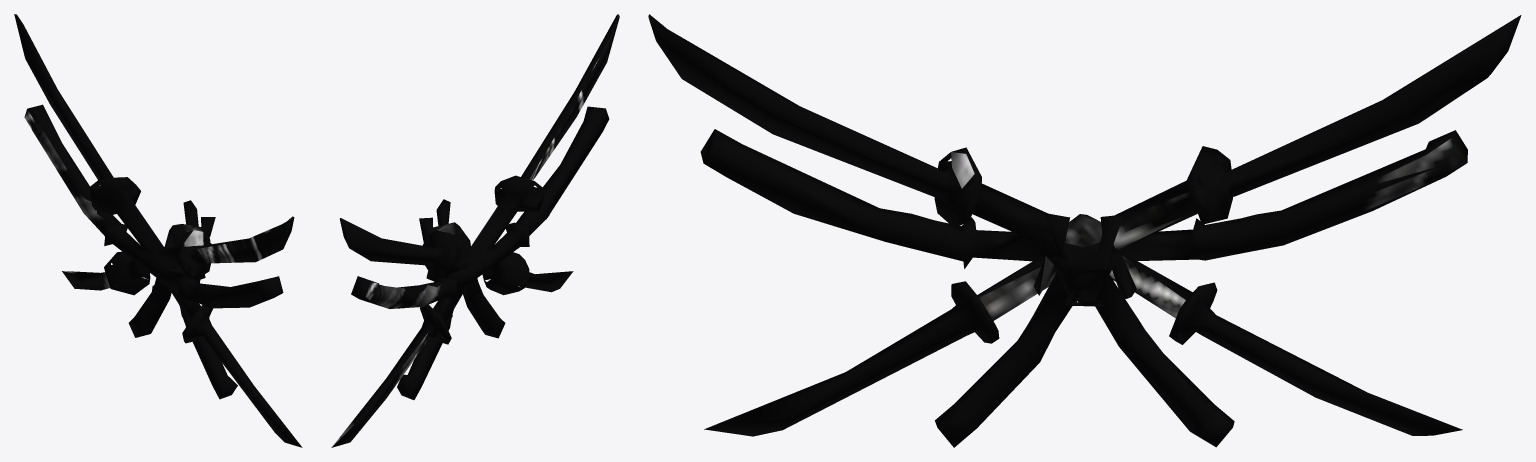
Rendered from Wings2.fbx.
3 renders of one model, left to right at view 1: azimuth 30°, elevation 25°; view 2: azimuth 150°, elevation 25°; view 3: azimuth 270°, elevation 25°, orthographic. The views are drawn at different scales.
Visible parts, largest first — view 1: tripo_node_9f37003d-00e4-46ad-b435-aad72360b564.008; view 2: tripo_node_9f37003d-00e4-46ad-b435-aad72360b564.008; view 3: tripo_node_9f37003d-00e4-46ad-b435-aad72360b564.008.
Part boxes in pixels (x1,y1,x2,y2): tripo_node_9f37003d-00e4-46ad-b435-aad72360b564.008: (14,14,302,447); tripo_node_9f37003d-00e4-46ad-b435-aad72360b564.008: (331,14,619,447); tripo_node_9f37003d-00e4-46ad-b435-aad72360b564.008: (648,14,1521,447).
Bounding box in the file's own units: 15.44 × 51.66 × 100.
